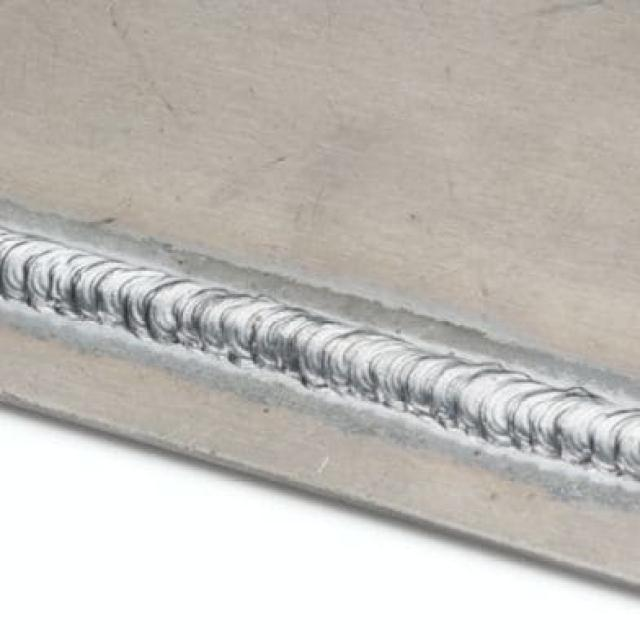Dry: (1, 229, 640, 487)
